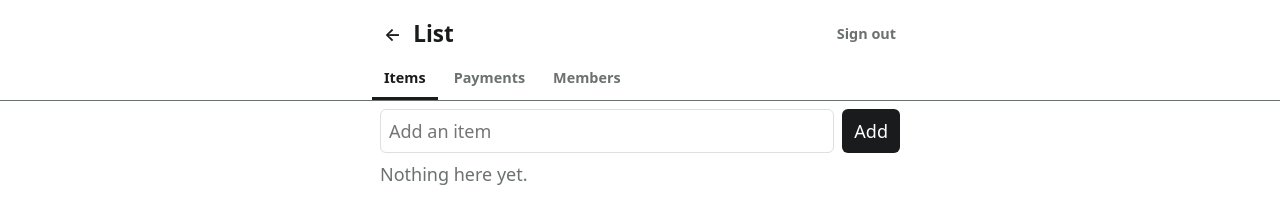
Test: ListView › adds an Item and it appears immediately, even when the server is unreachable
Type "Bread" into the field named "item".
click(607, 131); type("Bread")  # box [380,109,834,153]
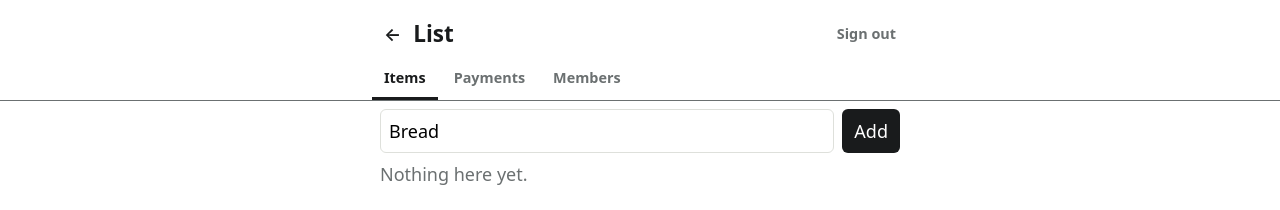
Submit the form, box [380,109,900,153]
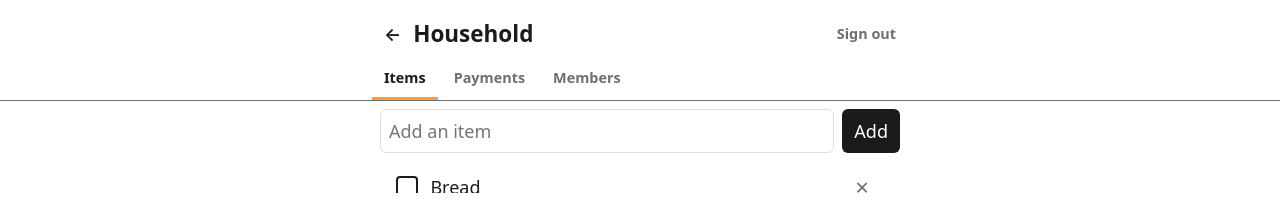
Now the text "Bread" is shown, box [430,174,480,193]
